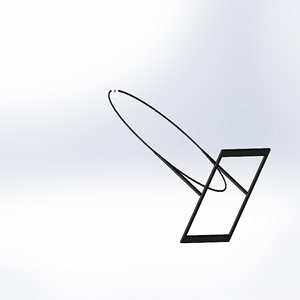circle: (106, 87, 273, 245)
